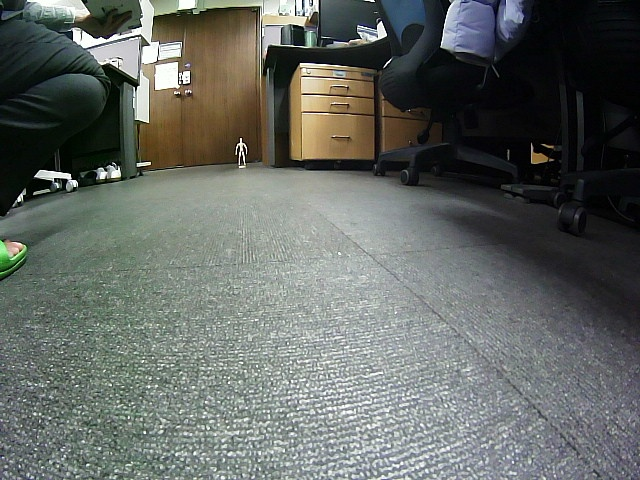person: (235, 136, 248, 166)
